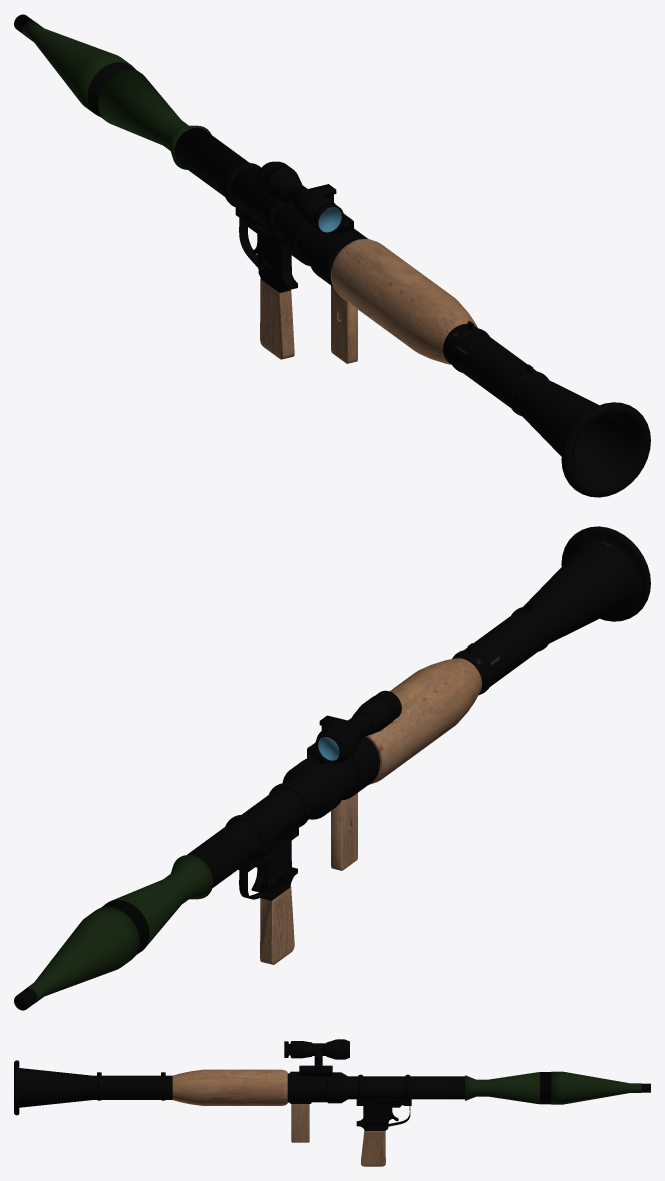
Rendered from RPG-7.glb.
3 renders of one model, top to bottom at view 1: azimuth 30°, elevation 25°; view 2: azimuth 150°, elevation 25°; view 3: azimuth 270°, elevation 25°, orthographic. The views are drawn at different scales.
Parts seen in each view (by area): view 1: Cylinder, Cylinder.002, Cube.006, Cylinder.001, Cube, Cube.008; view 2: Cylinder, Cylinder.002, Cube.006, Cylinder.001, Cube, Cube.008; view 3: Cylinder, Cylinder.002, Cube.006, Cylinder.001, Cube, Cube.005, Cube.008.
Boxes of the visible parts, box(x1,y1,x2,y2) form: Cylinder: box(174, 127, 650, 497); Cylinder.002: box(14, 14, 211, 169); Cube.006: box(224, 163, 297, 359); Cylinder.001: box(257, 161, 343, 234); Cube: box(331, 285, 357, 363); Cube.008: box(449, 321, 548, 415); Cylinder: box(187, 526, 650, 887); Cylinder.002: box(14, 855, 213, 1010); Cube.006: box(225, 783, 310, 964); Cylinder.001: box(315, 690, 401, 763); Cube: box(331, 793, 357, 870); Cube.008: box(452, 600, 551, 694); Cylinder: box(14, 1060, 464, 1115); Cylinder.002: box(465, 1071, 650, 1104); Cube.006: box(356, 1074, 411, 1166); Cylinder.001: box(284, 1039, 349, 1069); Cube: box(291, 1104, 309, 1142); Cube.005: box(299, 1065, 332, 1076); Cube.008: box(97, 1072, 165, 1100).
Size of the model in its own units: 1.84 by 4.26 by 21.04.
Materials: 4 (4 with a texture image).
